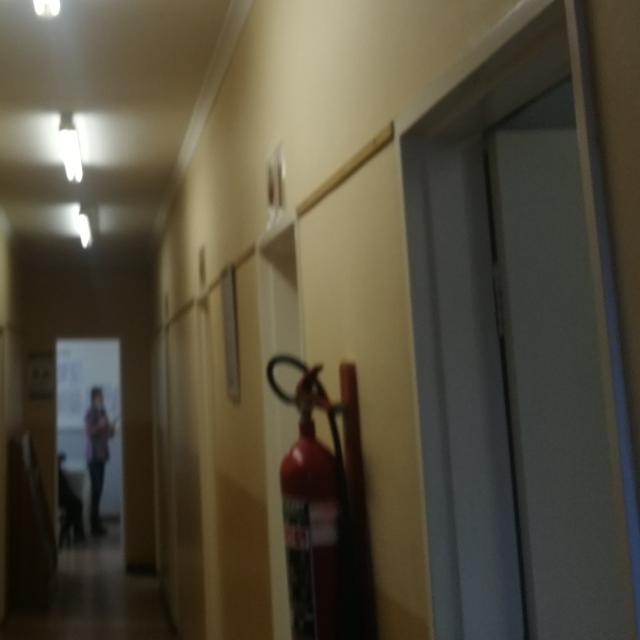fluorescent tube: (49, 104, 102, 207), (0, 0, 104, 46), (68, 203, 100, 252)
